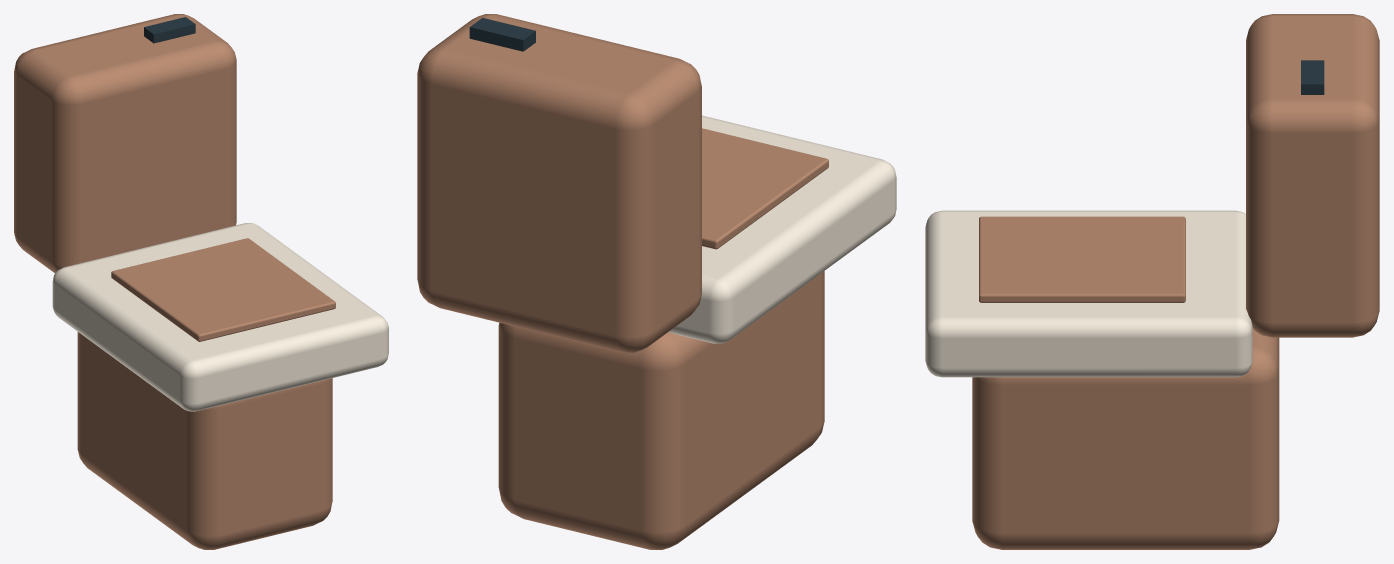
The model's file is toilet.glb.
3 renders of one model, left to right at view 1: azimuth 30°, elevation 25°; view 2: azimuth 150°, elevation 25°; view 3: azimuth 270°, elevation 25°, orthographic. The views are drawn at different scales.
Parts seen in each view (by area): view 1: poc-toilet-part-88, poc-toilet-part-89, poc-toilet-part-90, poc-toilet-part-91, poc-toilet-part-92; view 2: poc-toilet-part-88, poc-toilet-part-89, poc-toilet-part-90, poc-toilet-part-91, poc-toilet-part-92; view 3: poc-toilet-part-89, poc-toilet-part-88, poc-toilet-part-90, poc-toilet-part-91, poc-toilet-part-92.
Boxes of the visible parts, <box> form: poc-toilet-part-88: <box>14,14,236,272</box>; poc-toilet-part-89: <box>77,332,332,549</box>; poc-toilet-part-90: <box>52,223,388,411</box>; poc-toilet-part-91: <box>111,238,335,341</box>; poc-toilet-part-92: <box>144,17,195,43</box>; poc-toilet-part-88: <box>417,14,701,352</box>; poc-toilet-part-89: <box>498,271,824,549</box>; poc-toilet-part-90: <box>669,115,896,343</box>; poc-toilet-part-91: <box>702,128,828,249</box>; poc-toilet-part-92: <box>469,18,535,51</box>; poc-toilet-part-89: <box>972,328,1279,549</box>; poc-toilet-part-88: <box>1246,14,1379,337</box>; poc-toilet-part-90: <box>925,210,1252,377</box>; poc-toilet-part-91: <box>979,216,1185,302</box>; poc-toilet-part-92: <box>1301,60,1324,94</box>.
Size of the model in its own units: 0.42 by 0.78 by 0.68.
